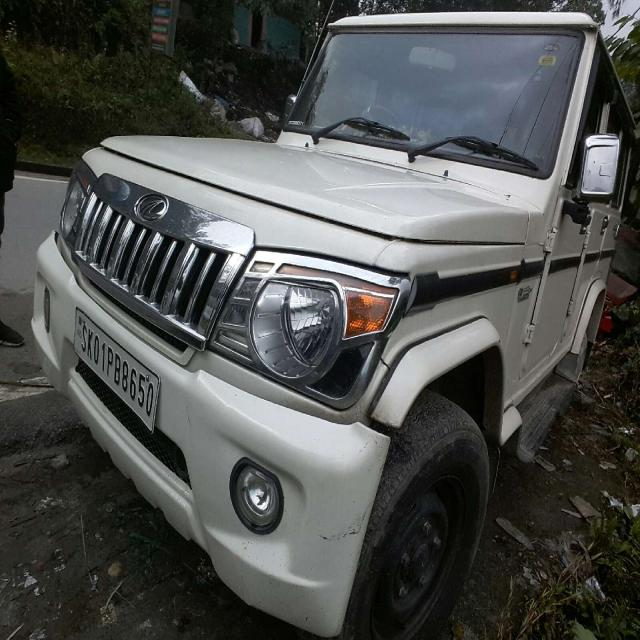light_vehicle: (39, 5, 624, 565)
